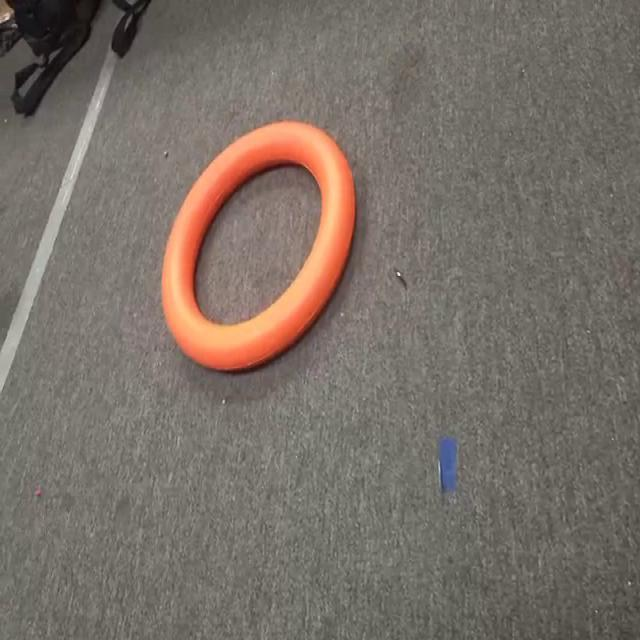note: (147, 112, 372, 384)
